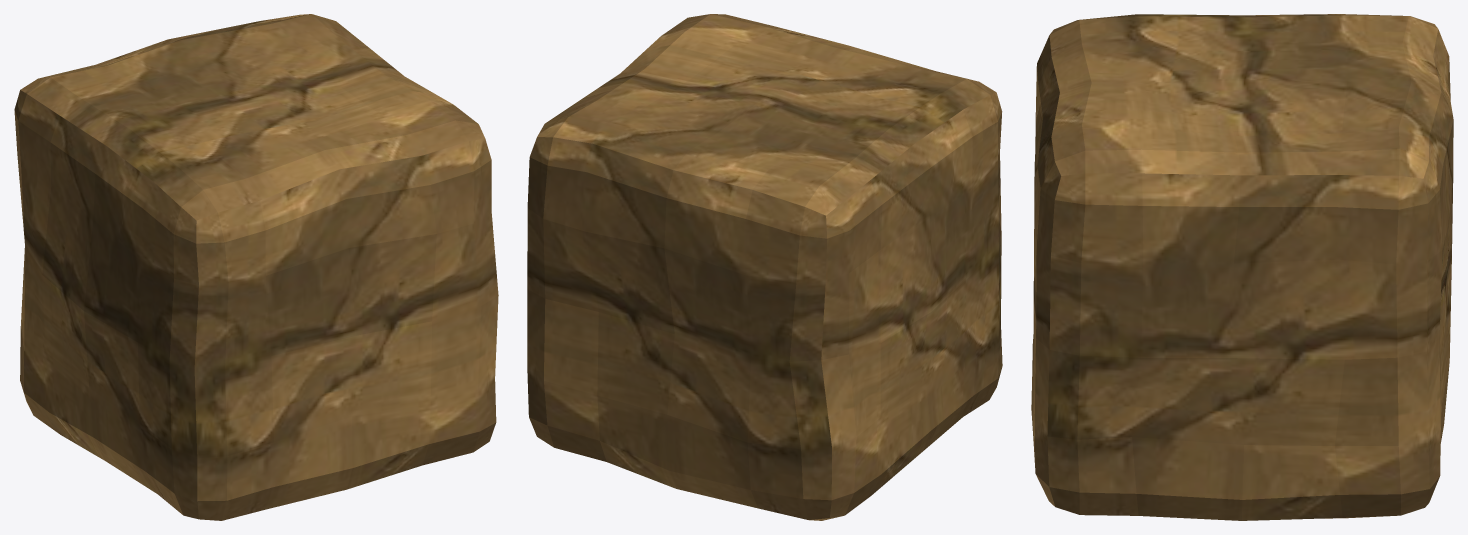
Rendered from amber_block.glb.
The picture shows the model from 3 angles, left to right: view 1: azimuth 30°, elevation 25°; view 2: azimuth 150°, elevation 25°; view 3: azimuth 270°, elevation 25°; orthographic projection. The views are drawn at different scales.
Visible parts, largest first — view 1: model; view 2: model; view 3: model.
Boxes of the visible parts, x1,y1,x2,y2 form: model: [14, 14, 498, 520]; model: [527, 14, 1002, 520]; model: [1031, 14, 1453, 520].
Size of the model in its own units: 0.2507 by 0.247 by 0.2503.
3 materials, 1 textured.
